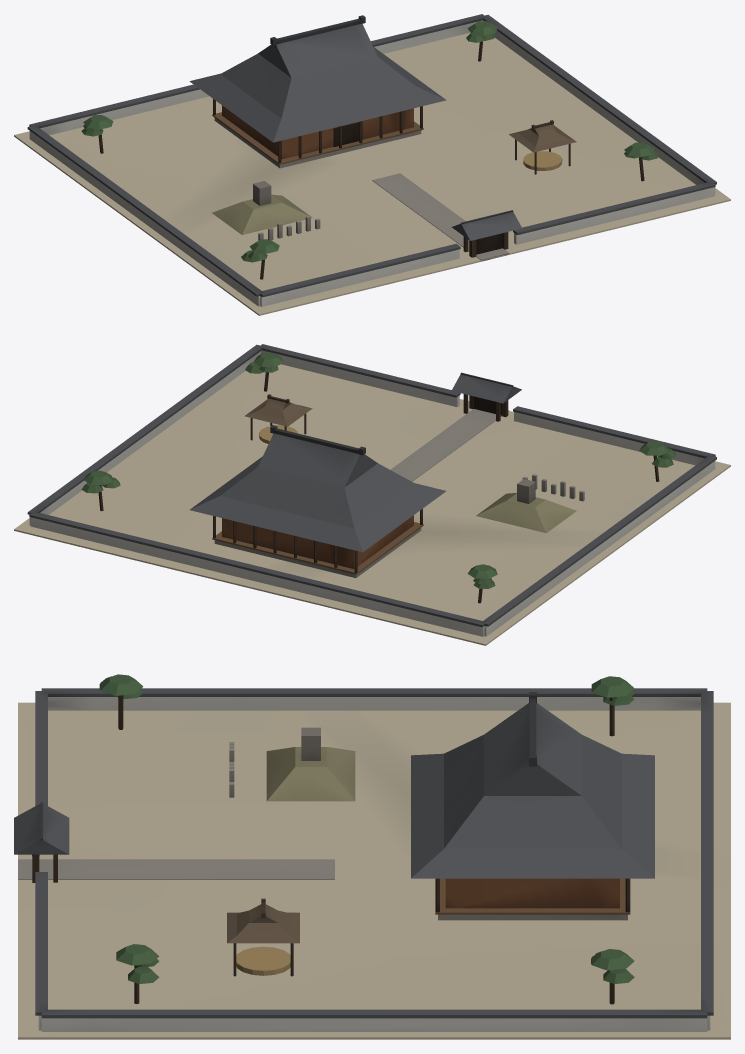
File: ekoin.glb
The picture shows the model from 3 angles, top to bottom: view 1: azimuth 30°, elevation 25°; view 2: azimuth 150°, elevation 25°; view 3: azimuth 270°, elevation 25°; orthographic projection. The views are drawn at different scales.
Visible parts, largest first — view 1: p0_precinct, p2_halls, p1_gate; view 2: p0_precinct, p2_halls, p1_gate; view 3: p0_precinct, p2_halls, p1_gate.
Boxes of the visible parts, x1,y1,x2,y2 form: p0_precinct: (14,32,730,315); p2_halls: (81,15,658,279); p1_gate: (27,14,716,306); p0_precinct: (14,364,730,645); p2_halls: (81,352,676,603); p1_gate: (27,344,716,636); p0_precinct: (18,702,730,1039); p2_halls: (99,674,654,1004); p1_gate: (14,688,713,1031).
Bounding box in the file's own units: 100 × 20.49 × 90.5.
